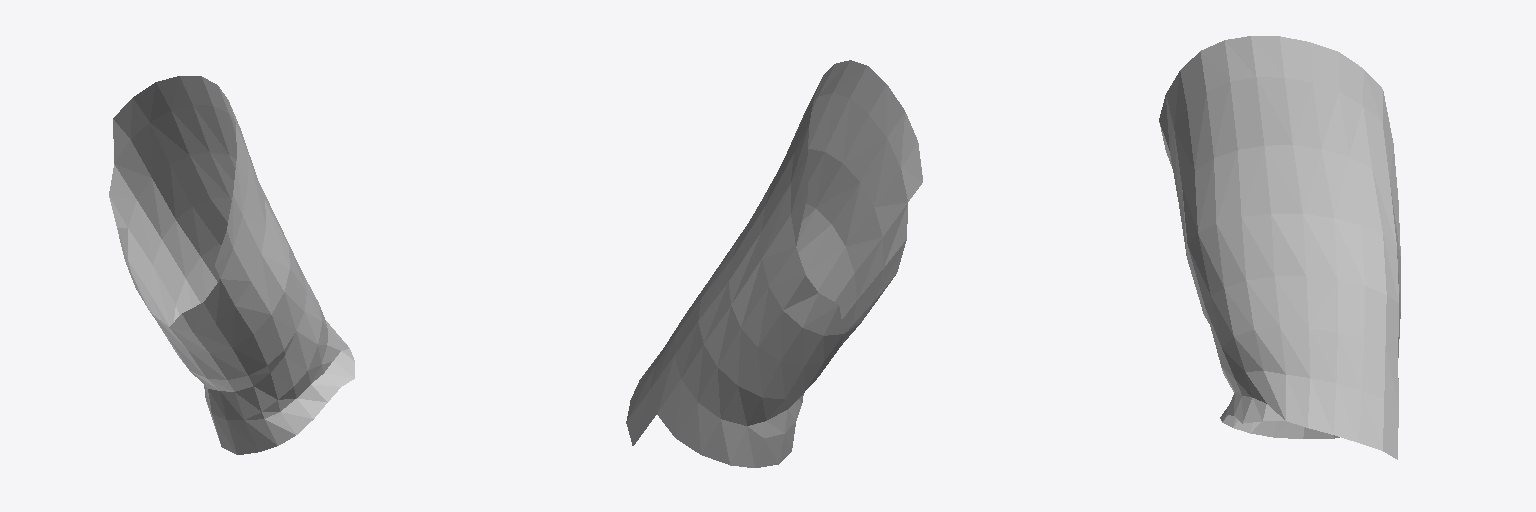
Rendered from hombro_izq.obj.
3 views of the same model, side by side, from view 1: azimuth 30°, elevation 25°; view 2: azimuth 150°, elevation 25°; view 3: azimuth 270°, elevation 25° (orthographic).
Parts seen in each view (by area): view 1: node_id803.001; view 2: node_id803.001; view 3: node_id803.001.
Boxes of the visible parts, <box> form: node_id803.001: <box>109,76,354,454</box>; node_id803.001: <box>626,60,922,467</box>; node_id803.001: <box>1159,36,1400,459</box>.
Size of the model in its own units: 0.1474 by 0.2693 by 0.1519.